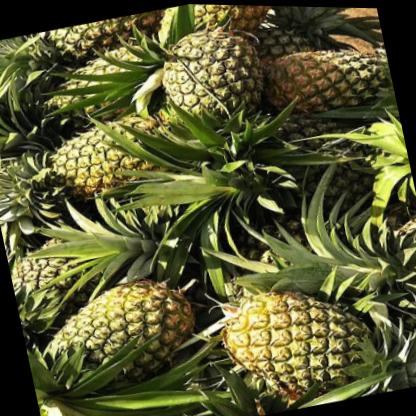pineapple: (204, 263, 386, 416), (24, 263, 204, 401), (0, 104, 173, 227), (144, 3, 283, 156), (256, 29, 396, 127)
